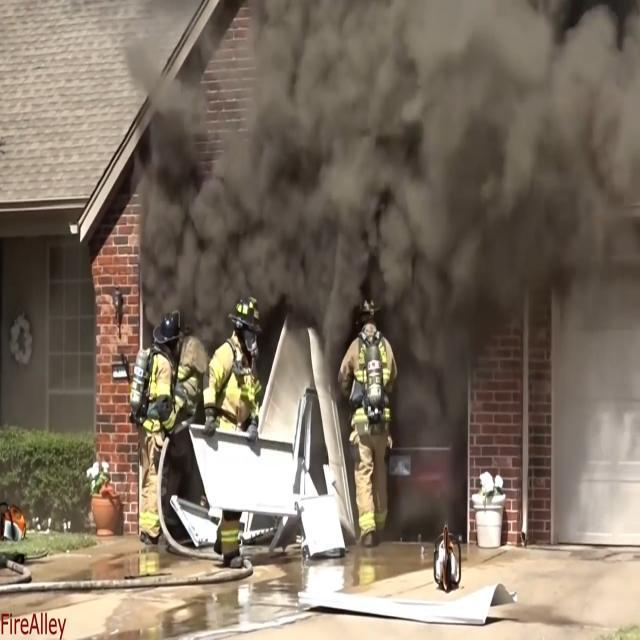Smoke: (176, 29, 548, 311)
